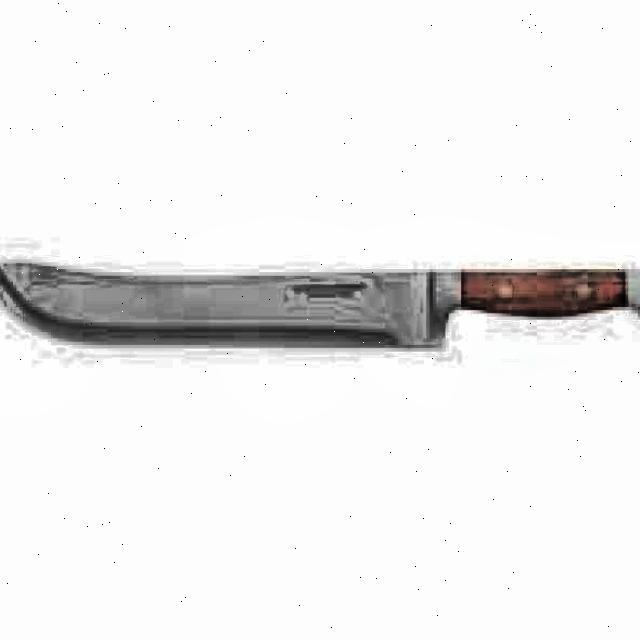knife: (0, 261, 640, 346)
